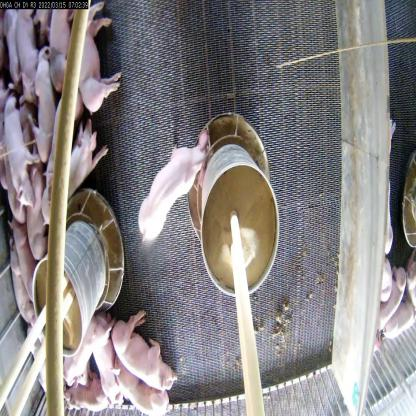Pig: (138, 132, 218, 246), (59, 0, 128, 119), (34, 111, 108, 217), (105, 304, 178, 391), (97, 326, 168, 415), (0, 89, 49, 213), (28, 34, 62, 159), (7, 223, 42, 310), (22, 172, 52, 264)
